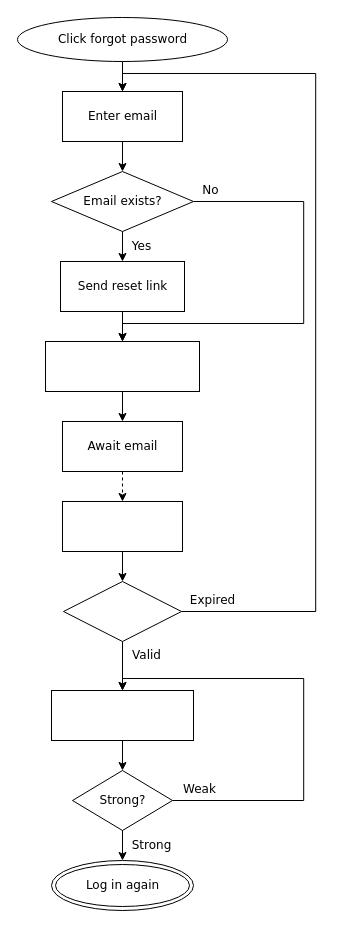
The diagram is 342 pixels wide and 928 high, and some of its shapes have lost their labels. Here are the shapes that lost their labels. From the top down, the centre of each, then its label:
(122,366): Show generic notice
(122,526): Open link
(122,611): Link valid?
(122,715): Set new password
